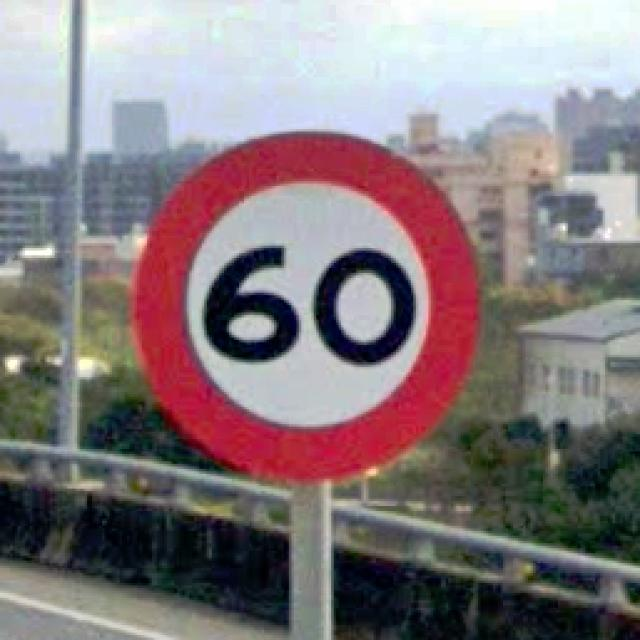max60: (125, 126, 483, 484)
